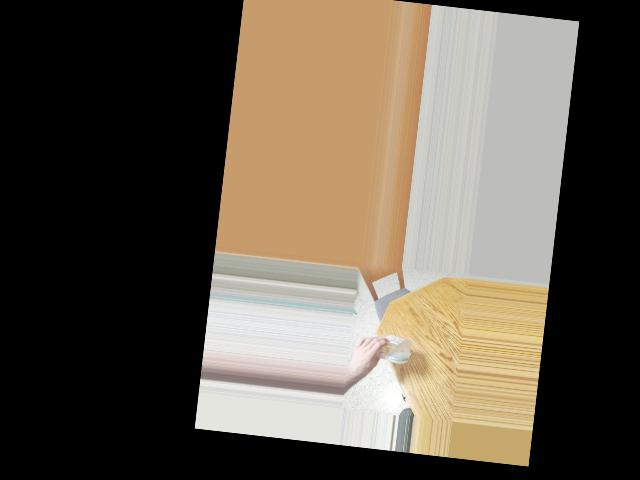cheese: (362, 329, 407, 367)
